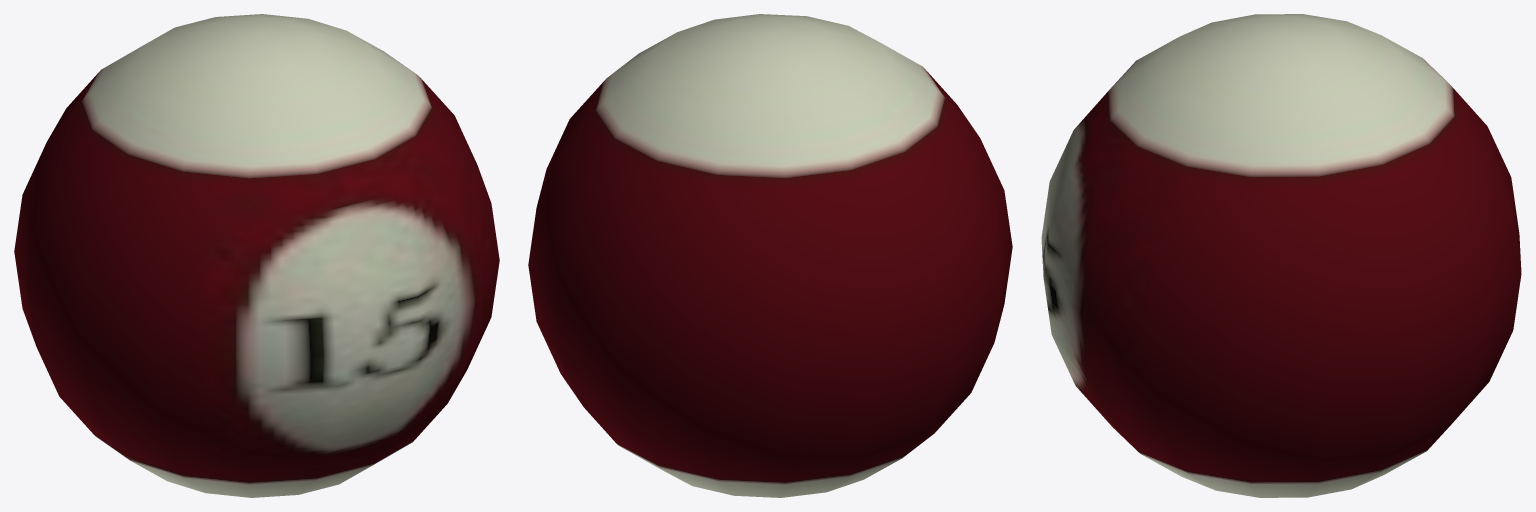
The picture shows the model from 3 angles, left to right: view 1: azimuth 30°, elevation 25°; view 2: azimuth 150°, elevation 25°; view 3: azimuth 270°, elevation 25°; orthographic projection.
Parts seen in each view (by area): view 1: bi_a_15; view 2: bi_a_15; view 3: bi_a_15.
Boxes of the visible parts, left/top/right/bottom form: bi_a_15: left=14, top=14, right=499, bottom=497; bi_a_15: left=528, top=14, right=1012, bottom=497; bi_a_15: left=1041, top=14, right=1521, bottom=497.
Bounding box in the file's own units: 12.94 × 13.13 × 12.94.
